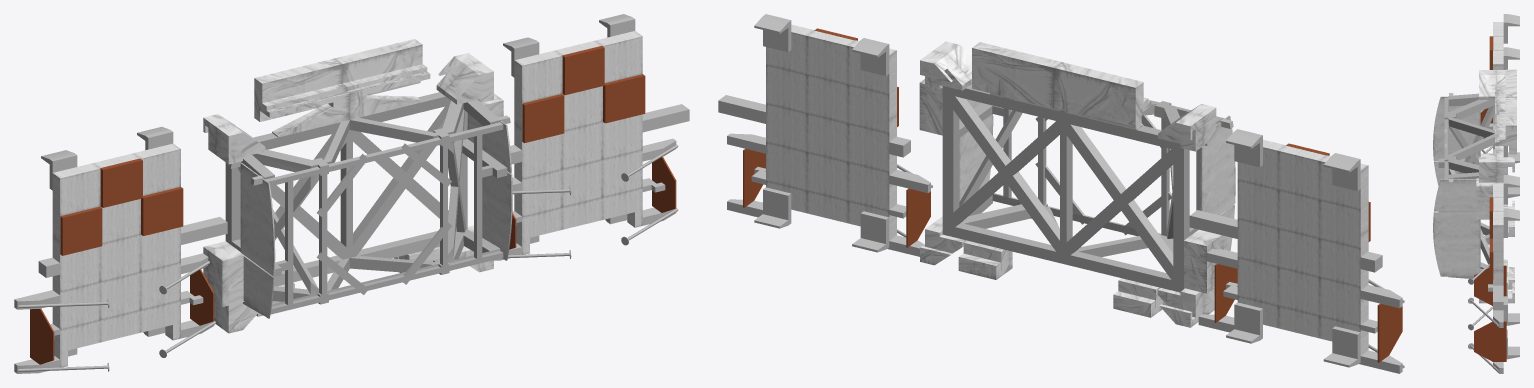
3 renders of one model, left to right at view 1: azimuth 30°, elevation 25°; view 2: azimuth 150°, elevation 25°; view 3: azimuth 270°, elevation 25°, orthographic. The views are drawn at different scales.
Parts seen in each view (by area): view 1: mt; view 2: mt; view 3: mt.
Part boxes in pixels (box(x1,y1,x2,y2)): mt: box(14, 14, 689, 373); mt: box(718, 14, 1404, 373); mt: box(1433, 14, 1519, 373).
Size of the model in its own units: 6.46 by 2.09 by 1.02.
Materials: 5 (3 with a texture image).
